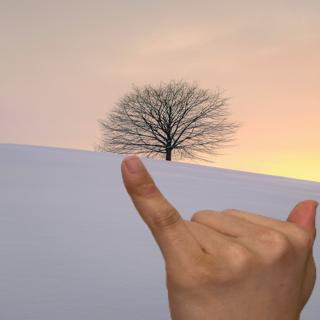HAVE: (105, 145, 320, 320)
